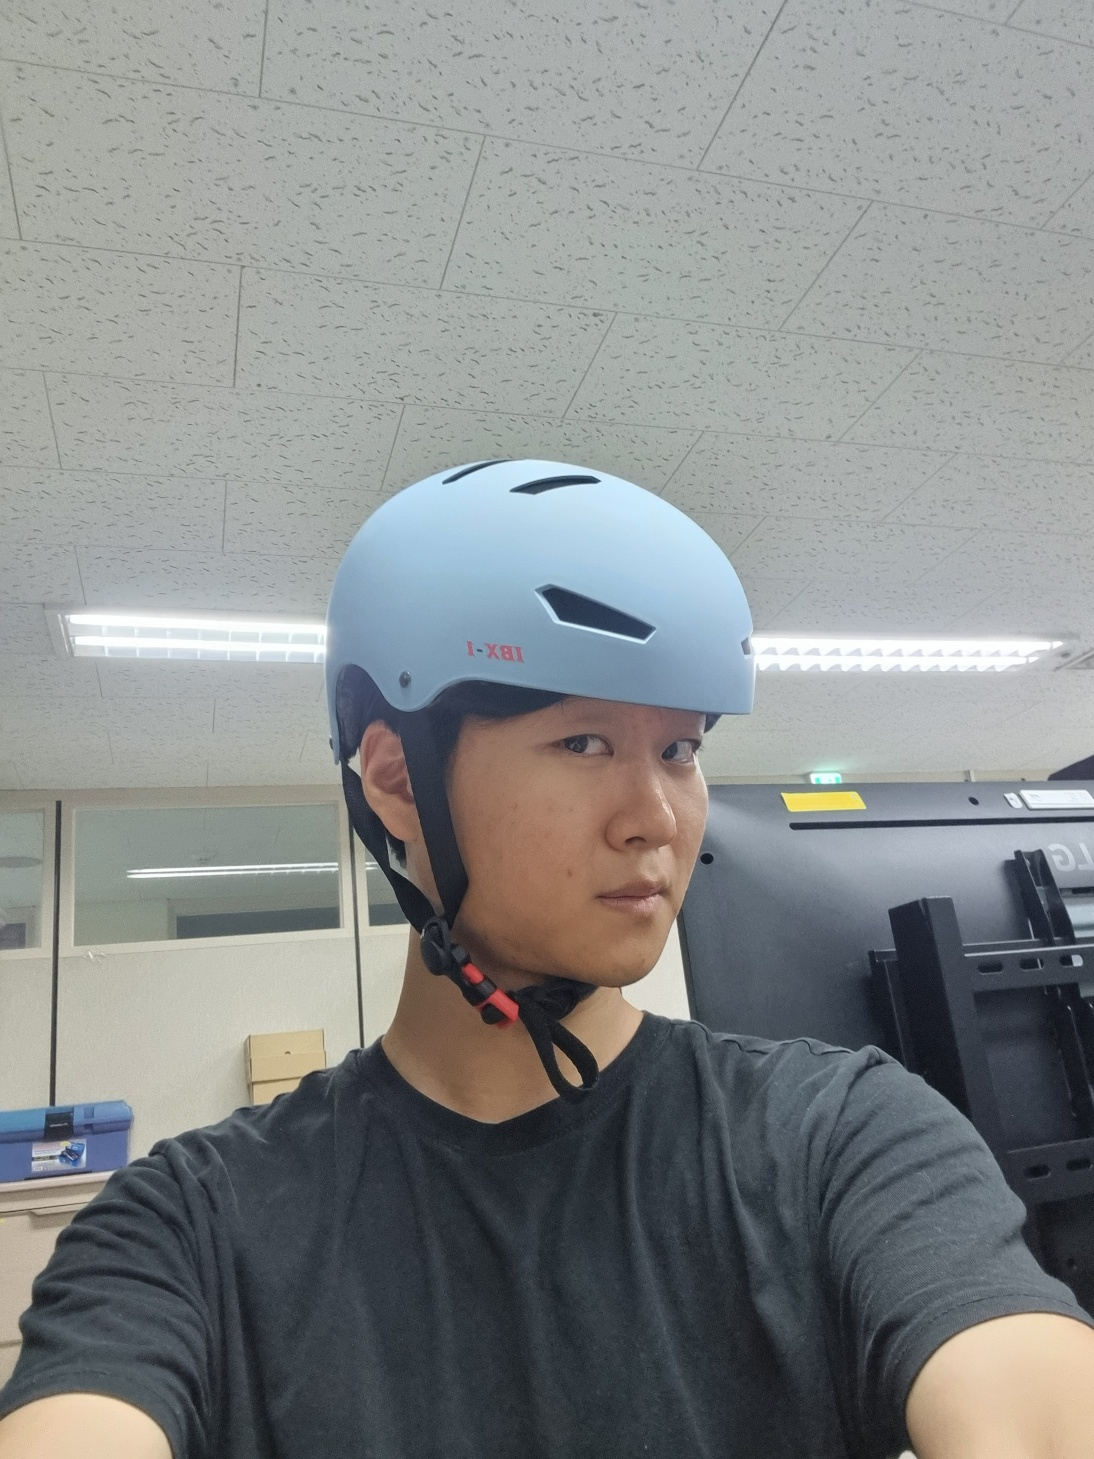Helmet: (275, 418, 809, 1075)
